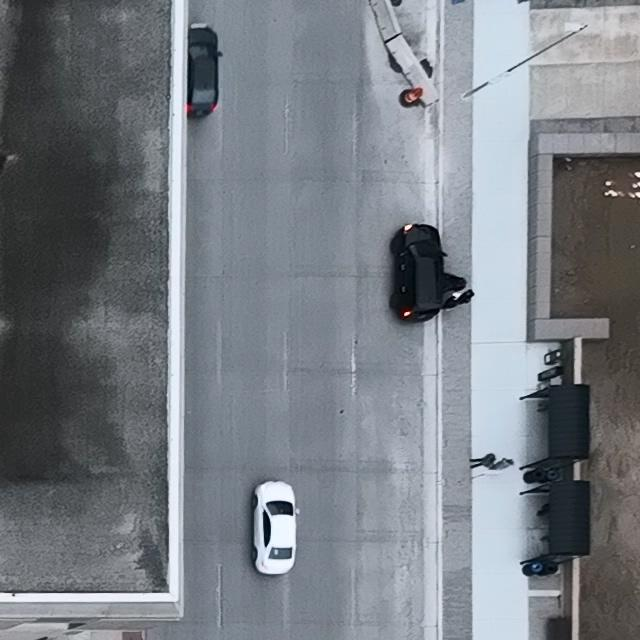car: (389, 223, 449, 323), (253, 479, 300, 576), (186, 21, 223, 120)
